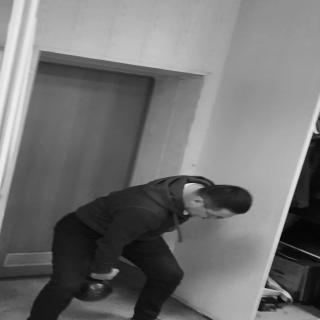girya: (74, 278, 114, 302)
